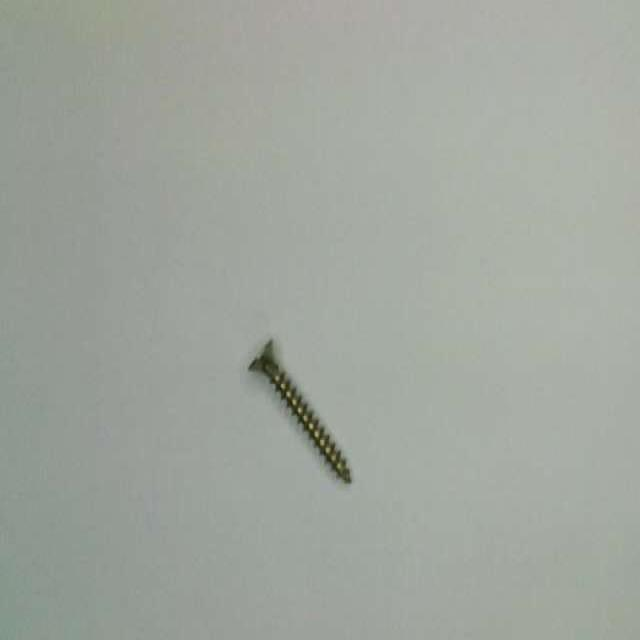Parafuso: (250, 340, 350, 481)
